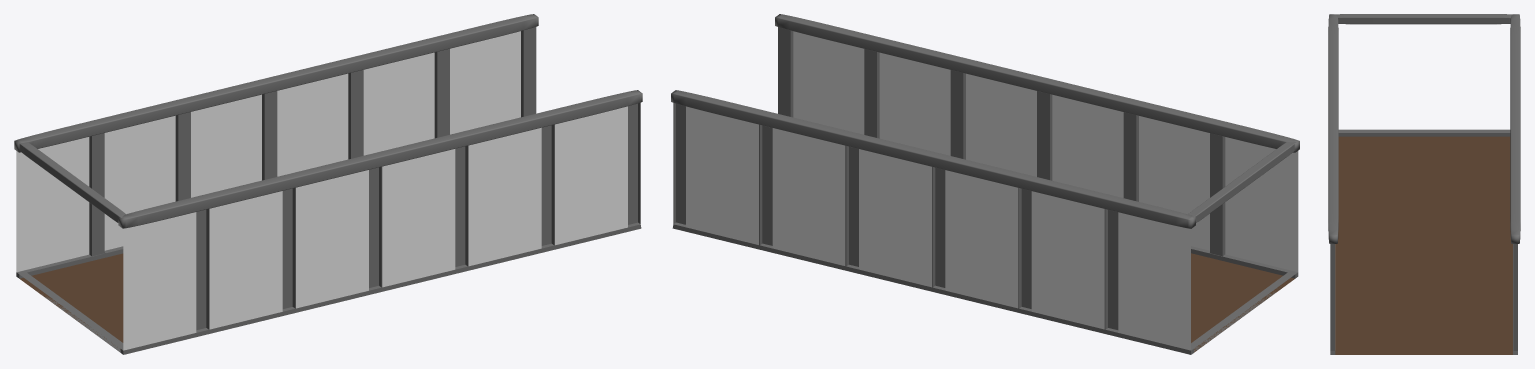
The model's file is door2.fbx.
The picture shows the model from 3 angles, left to right: view 1: azimuth 30°, elevation 25°; view 2: azimuth 150°, elevation 25°; view 3: azimuth 270°, elevation 25°; orthographic projection. The views are drawn at different scales.
Parts seen in each view (by area): view 1: Room.005; view 2: Room.005; view 3: Room.005.
Part boxes in pixels (x1=…): Room.005: x1=14, y1=14, x2=642, y2=354; Room.005: x1=671, y1=14, x2=1299, y2=354; Room.005: x1=1328, y1=14, x2=1520, y2=354.
Size of the model in its own units: 4204 by 1055 by 1536.
